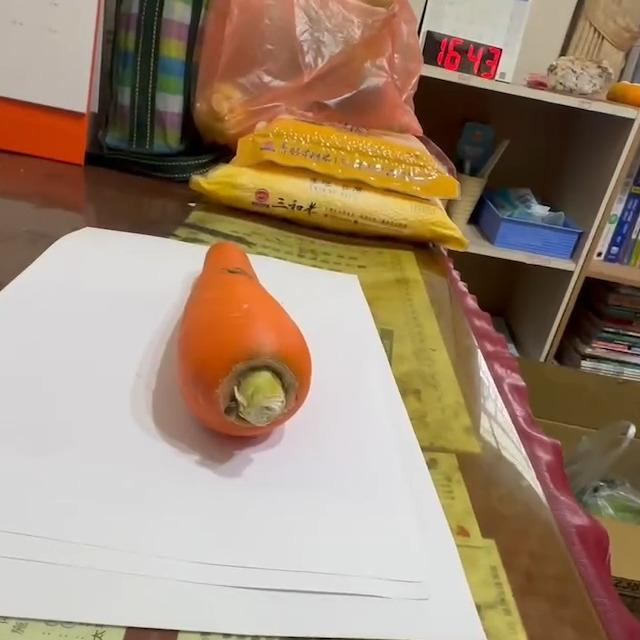carrot: (177, 240, 313, 447)
